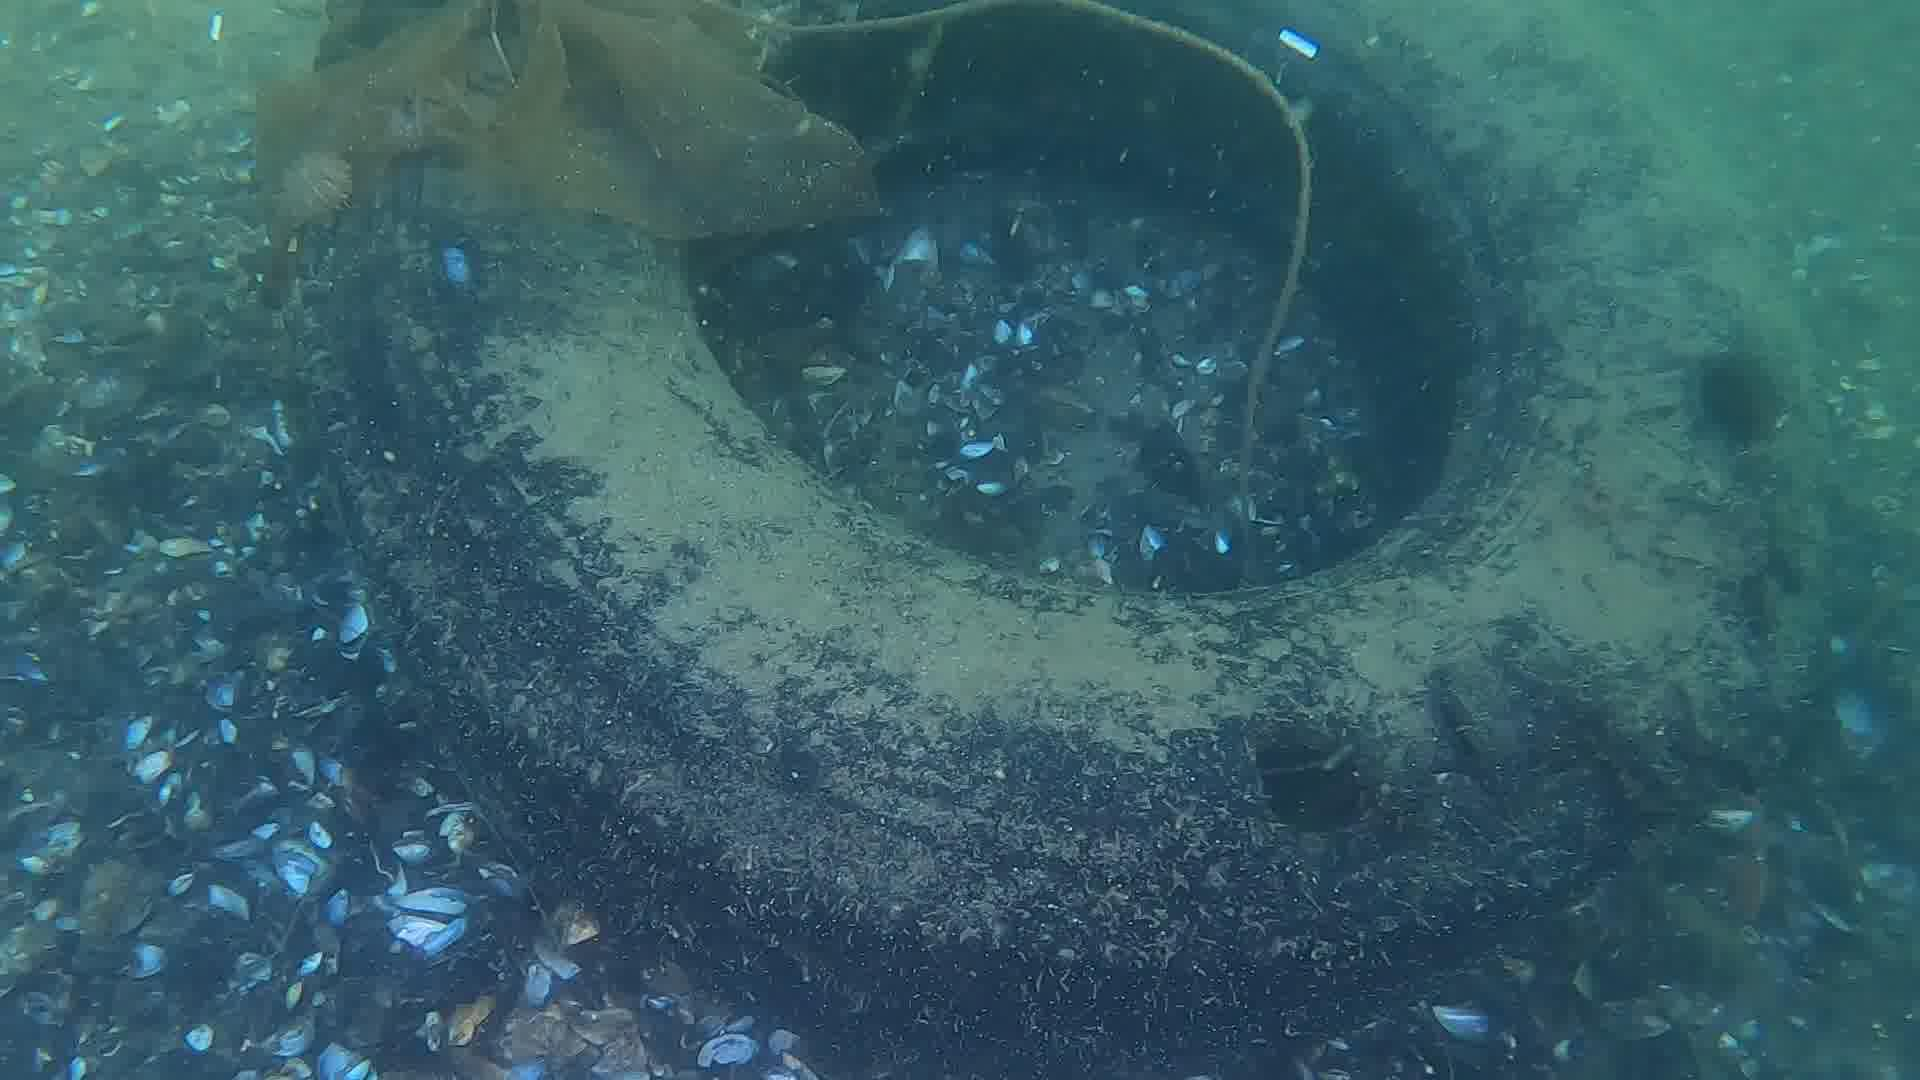rope: (702, 0, 1313, 542)
tire: (314, 0, 1817, 1055)
